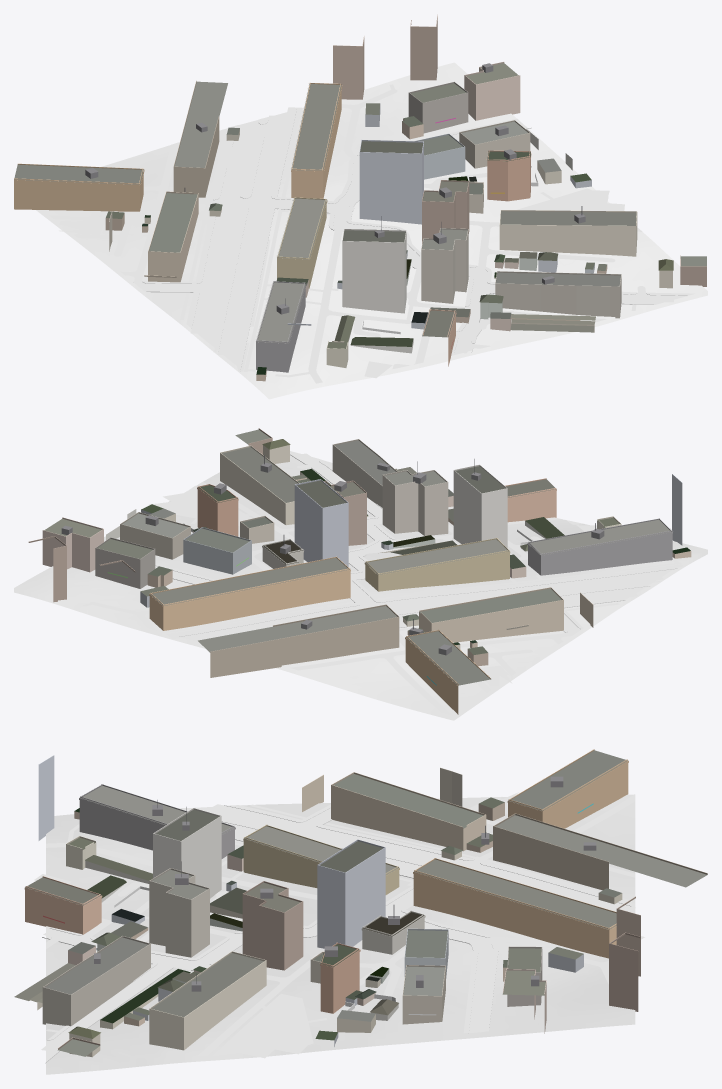
The picture shows the model from 3 angles, top to bottom: view 1: azimuth 30°, elevation 25°; view 2: azimuth 150°, elevation 25°; view 3: azimuth 270°, elevation 25°; orthographic projection. The views are drawn at different scales.
Parts seen in each view (by area): view 1: t0_3_-11; view 2: t0_3_-11; view 3: t0_3_-11.
Part boxes in pixels (bbox=[...]): t0_3_-11: bbox=[14, 14, 707, 399]; t0_3_-11: bbox=[14, 428, 707, 720]; t0_3_-11: bbox=[14, 749, 707, 1074].
Size of the model in its own units: 277 by 58.45 by 301.
